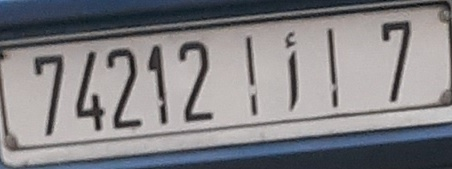1: (143, 43, 171, 125)
2: (176, 39, 218, 124), (104, 46, 144, 130)
4: (74, 50, 107, 133)
7: (32, 53, 66, 138), (380, 20, 414, 104)
a: (279, 28, 302, 116)
